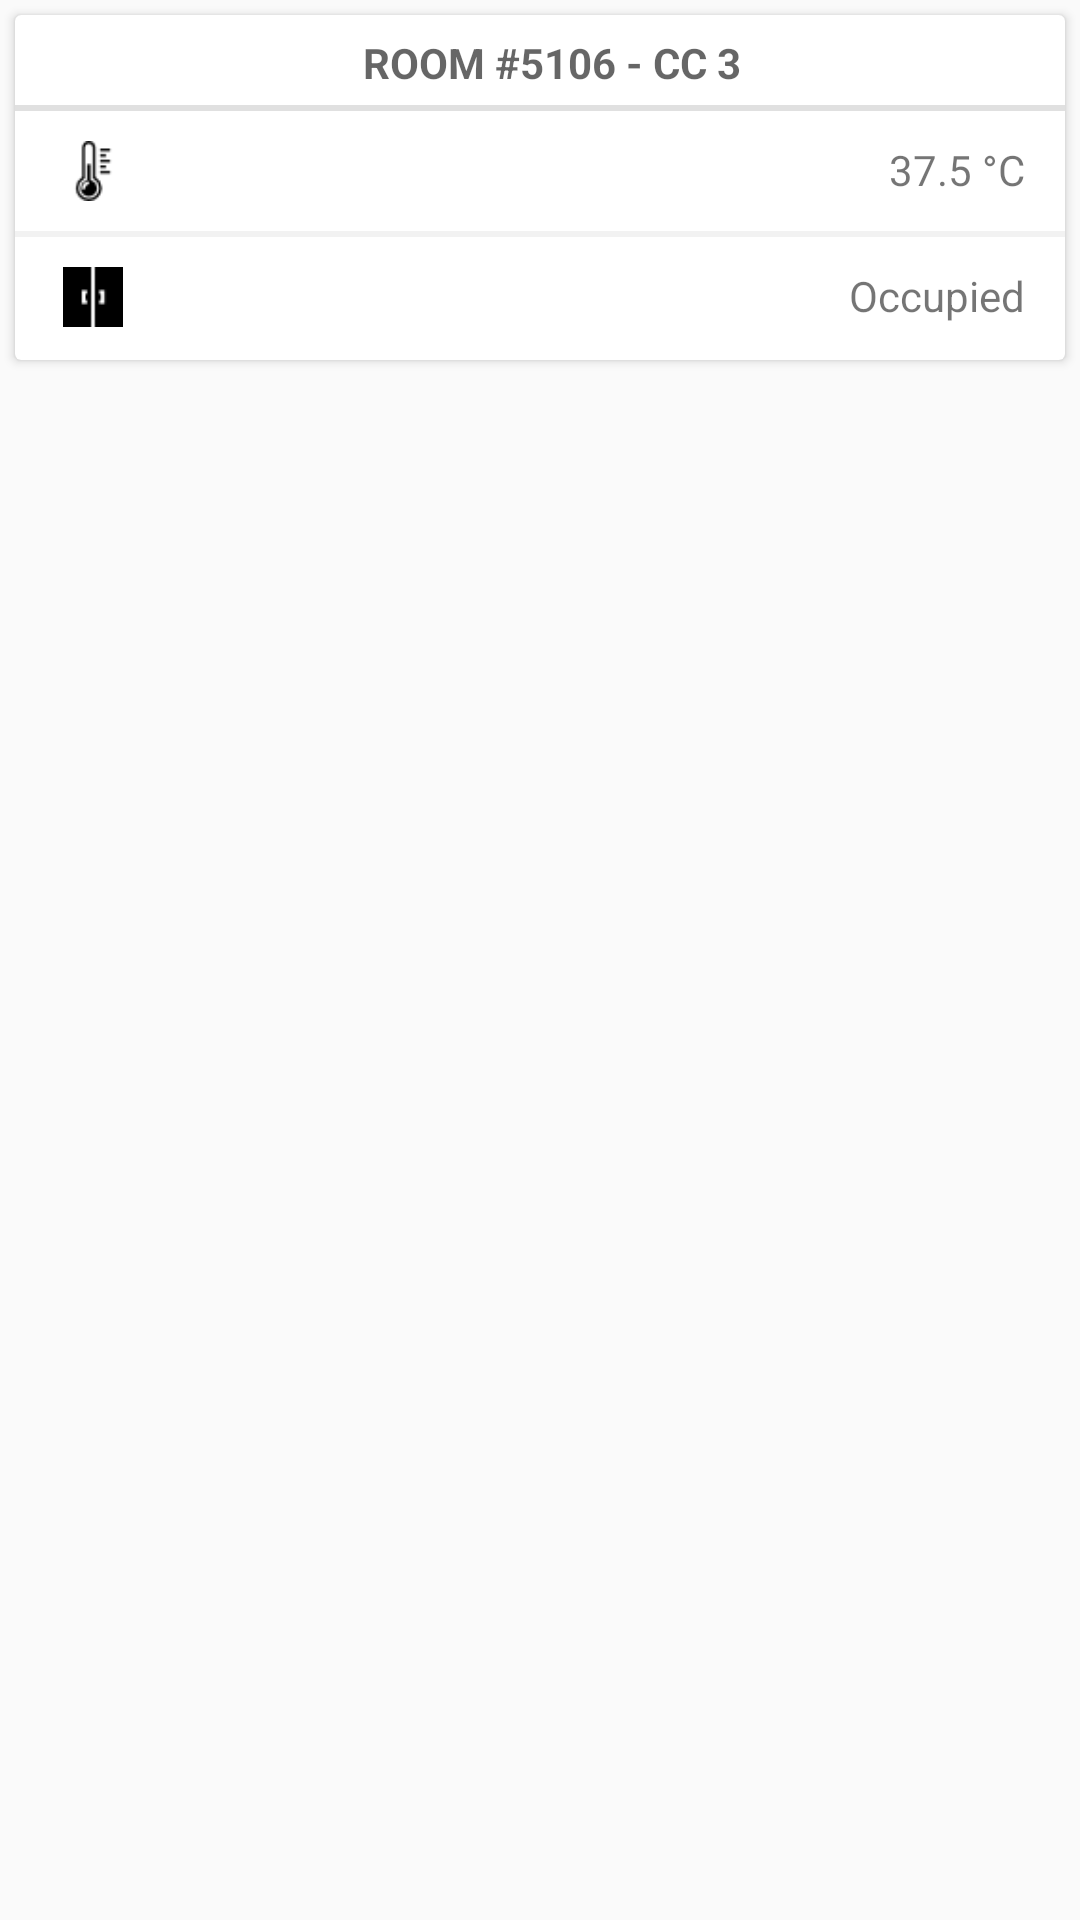

Named icons in this screenshot (1080×1920) and their centers, point (x, y):
closed: point (93, 297)
